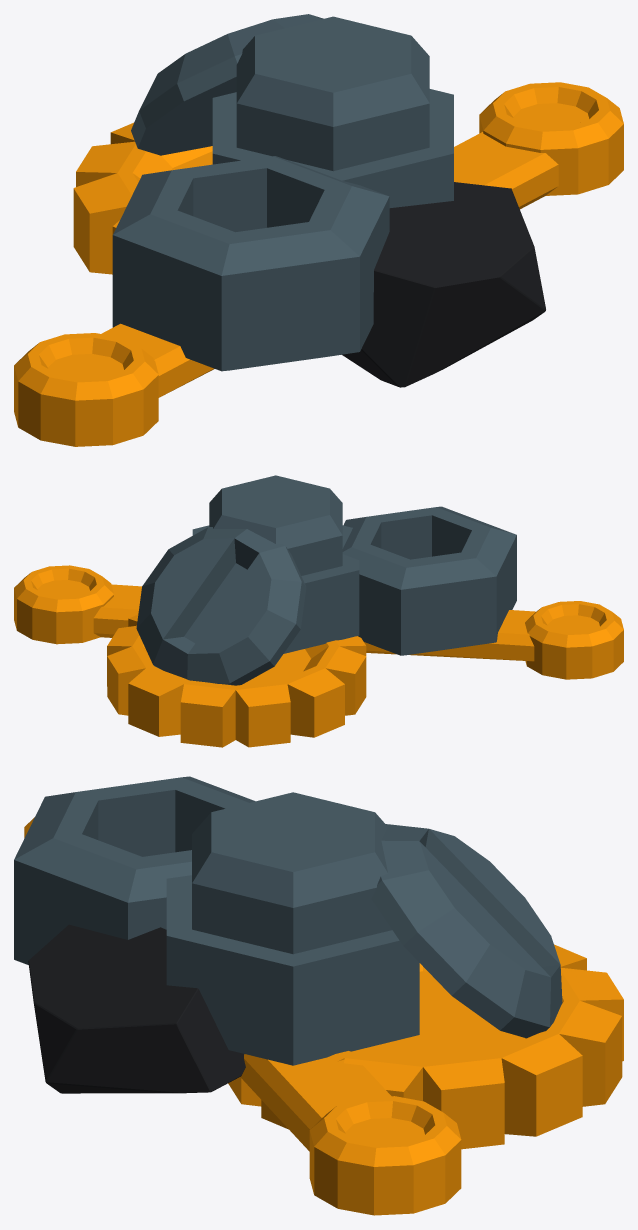
File: Junk.FBX
3 views of the same model, one above another, from view 1: azimuth 30°, elevation 25°; view 2: azimuth 150°, elevation 25°; view 3: azimuth 270°, elevation 25° (orthographic). The views are drawn at different scales.
Parts seen in each view (by area): view 1: Socket, Bolt, LongJunk, Ore, Screw, Sprocket; view 2: Socket, Screw, Sprocket, LongJunk, Bolt; view 3: Bolt, Sprocket, Ore, Socket, Screw, LongJunk.
Part boxes in pixels (left/top/right/bottom): Socket: left=112, top=156, right=389, bottom=371; Bolt: left=212, top=16, right=453, bottom=207; LongJunk: left=14, top=82, right=623, bottom=446; Ore: left=342, top=182, right=545, bottom=387; Screw: left=131, top=14, right=323, bottom=155; Sprocket: left=73, top=122, right=212, bottom=274; Socket: left=342, top=506, right=516, bottom=655; Screw: left=136, top=527, right=306, bottom=685; Sprocket: left=107, top=614, right=366, bottom=747; LongJunk: left=14, top=565, right=623, bottom=679; Bolt: left=192, top=475, right=359, bottom=653; Bolt: left=166, top=792, right=419, bottom=1065; Sprocket: left=228, top=944, right=623, bottom=1149; Ore: left=28, top=924, right=245, bottom=1093; Socket: left=14, top=776, right=255, bottom=964; Screw: left=371, top=824, right=562, bottom=1038; LongJunk: left=24, top=817, right=461, bottom=1215.
Bounding box in the file's own units: 1.63 × 0.5032 × 1.13.
